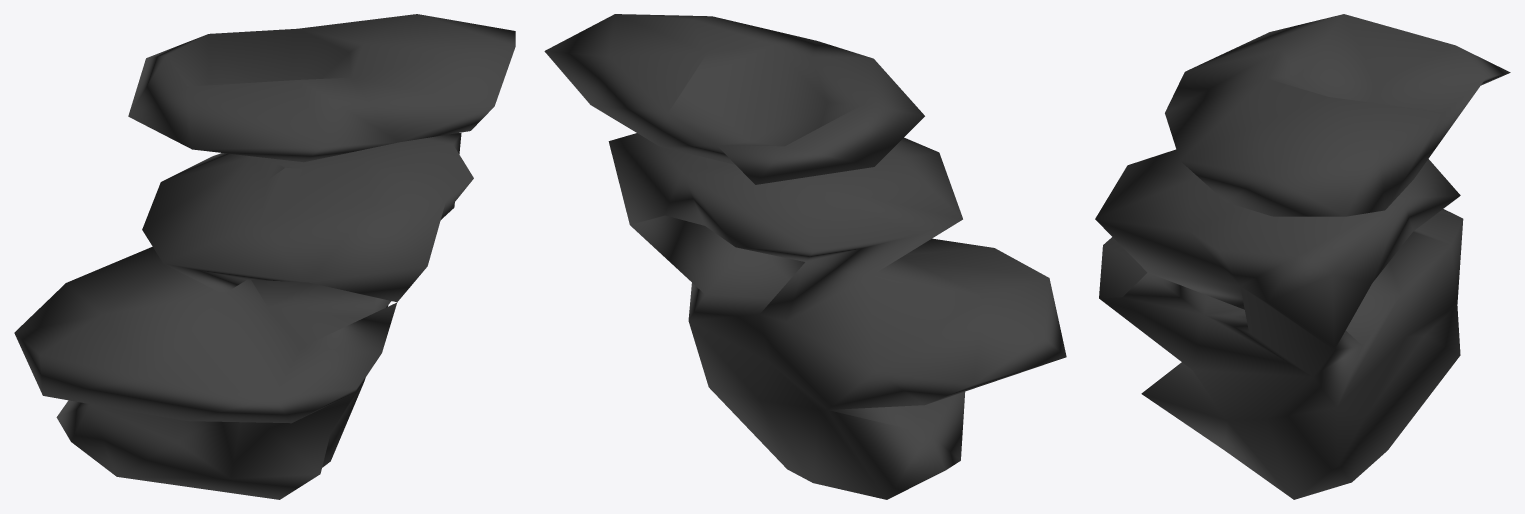
File: strata-1.glb
3 renders of one model, left to right at view 1: azimuth 30°, elevation 25°; view 2: azimuth 150°, elevation 25°; view 3: azimuth 270°, elevation 25°, orthographic. The views are drawn at different scales.
Parts seen in each view (by area): view 1: geometry_0; view 2: geometry_0; view 3: geometry_0.
Part boxes in pixels (bbox=[...]): geometry_0: bbox=[14, 14, 515, 499]; geometry_0: bbox=[544, 14, 1066, 499]; geometry_0: bbox=[1095, 14, 1510, 499].
Bounding box in the file's own units: 1.32 × 1 × 0.8641.
Materials: 1 (1 with a texture image).
